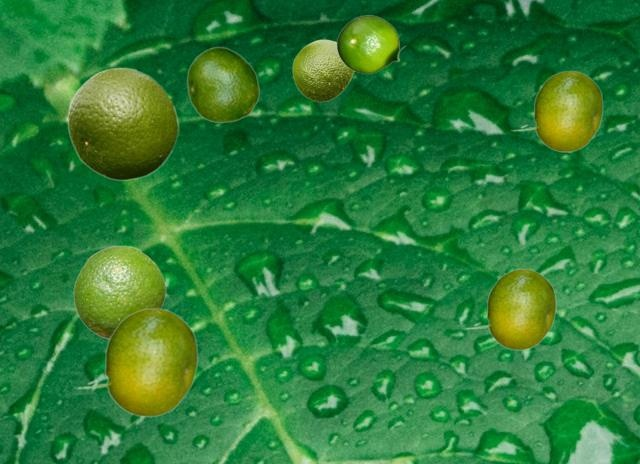calamansi: (73, 307, 197, 416), (67, 66, 178, 180), (73, 245, 165, 339), (510, 70, 602, 151), (463, 268, 555, 349), (186, 46, 259, 122), (336, 15, 406, 73), (292, 39, 353, 101)
